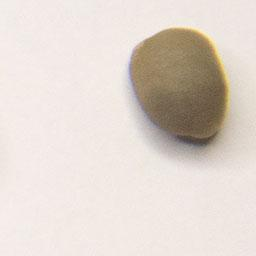peaberry: (126, 22, 234, 148)
